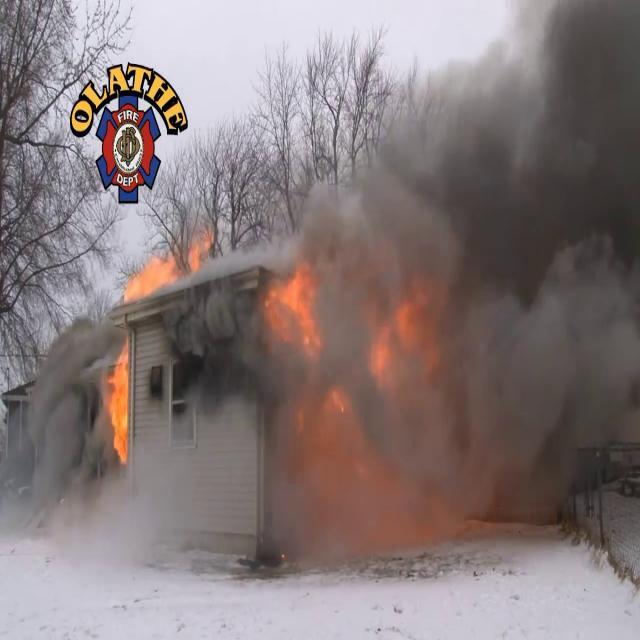Fire: (122, 223, 218, 298), (106, 327, 132, 467)
Smoke: (260, 4, 640, 558), (10, 296, 114, 598)
